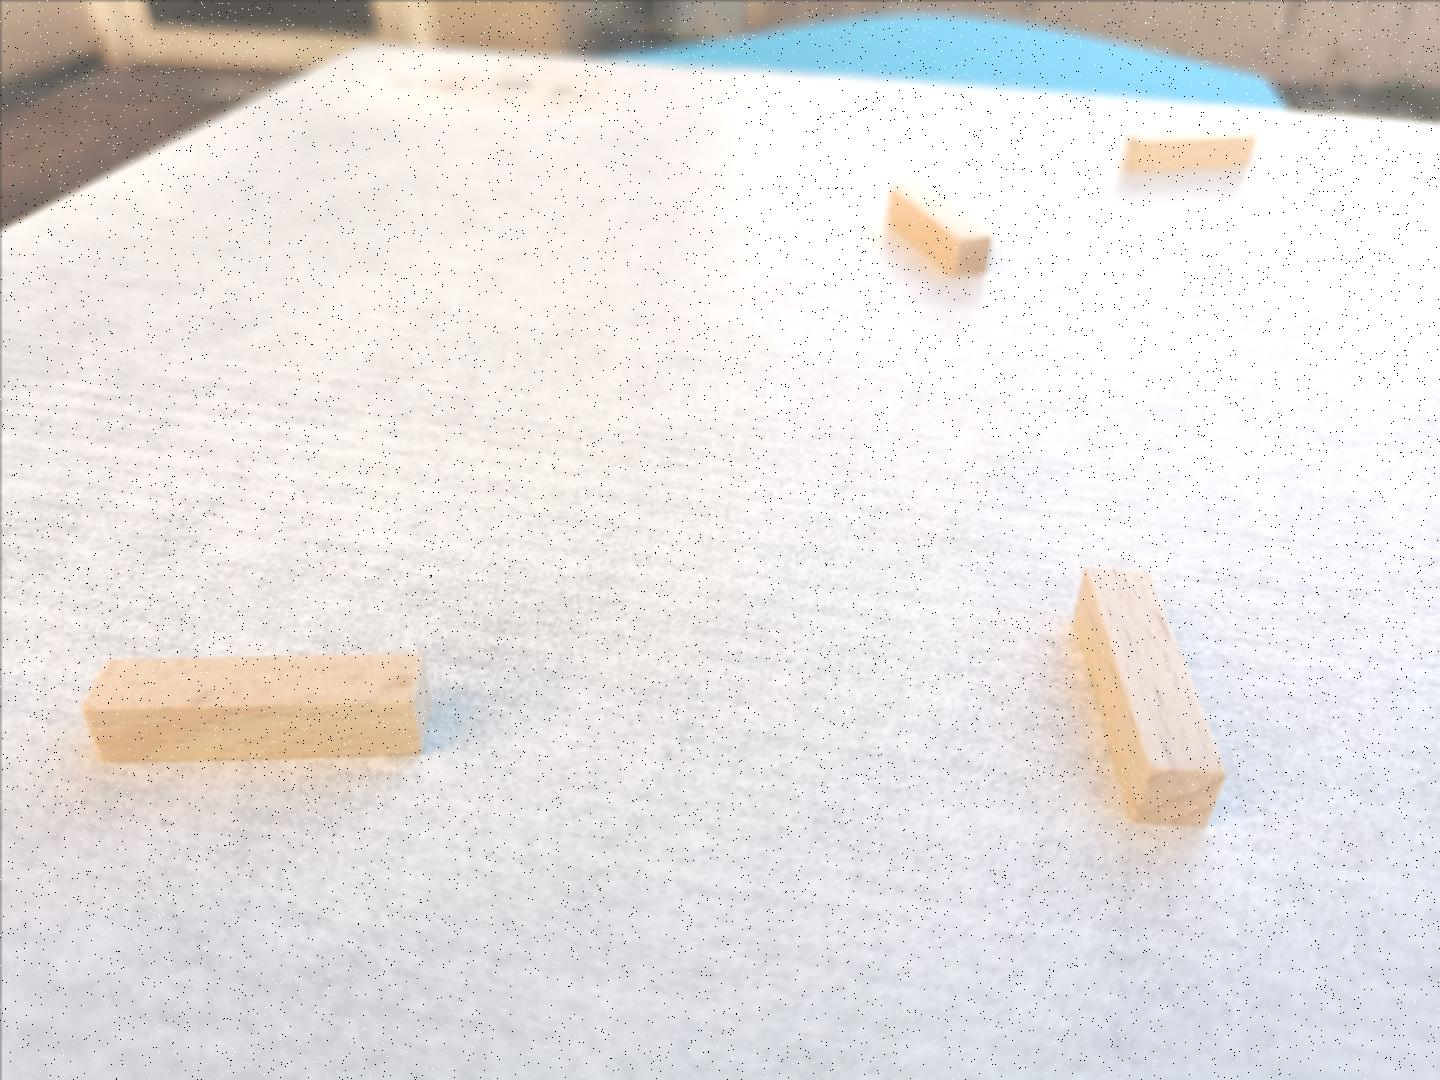jenga: (1075, 565, 1223, 824), (82, 652, 431, 759), (886, 186, 990, 276), (1123, 135, 1254, 171)
